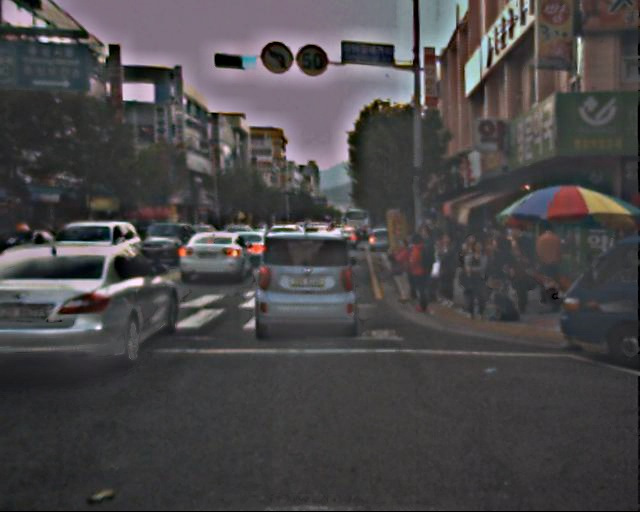person: (404, 233, 436, 311), (532, 224, 563, 299), (501, 238, 531, 312), (460, 242, 490, 314), (433, 232, 462, 302), (413, 222, 441, 291), (482, 234, 509, 301), (390, 238, 416, 301)
